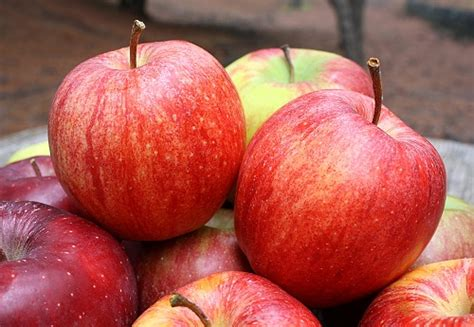apple: (232, 84, 450, 304), (52, 36, 244, 237), (220, 42, 375, 130)
